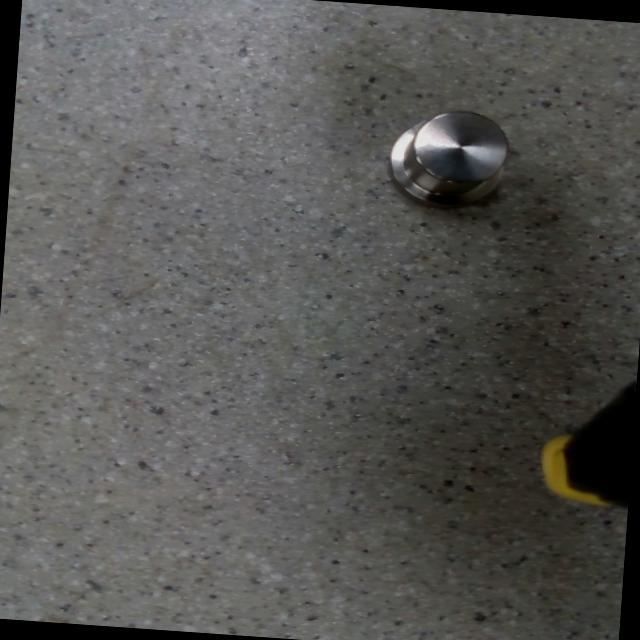sensor: (384, 104, 511, 212)
